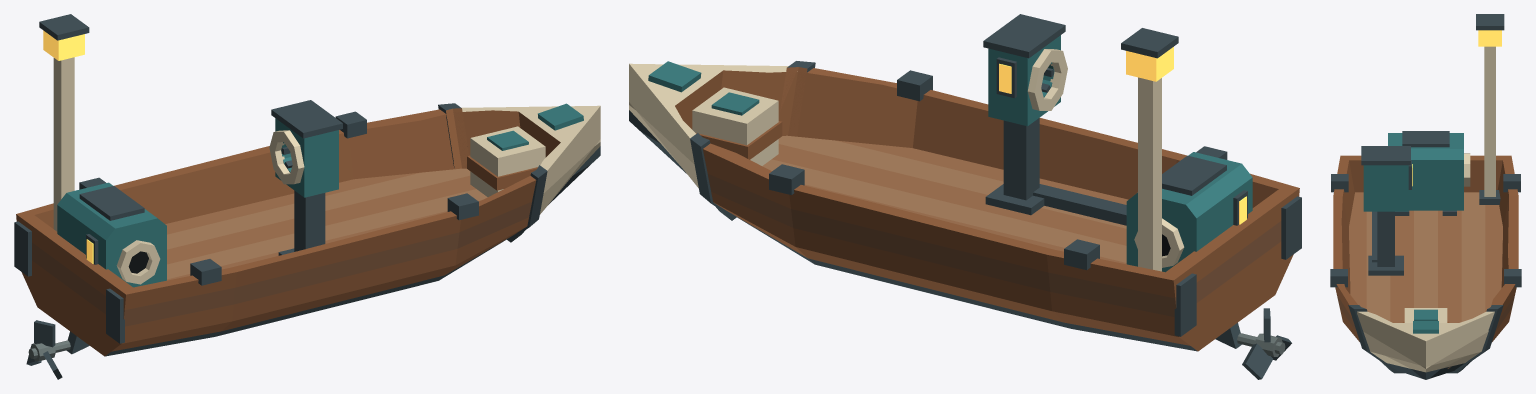
File: salvage_skiff.glb
3 renders of one model, left to right at view 1: azimuth 30°, elevation 25°; view 2: azimuth 150°, elevation 25°; view 3: azimuth 270°, elevation 25°, orthographic. The views are drawn at different scales.
Visible parts, largest first — view 1: Skiff Timber, Skiff Iron, Skiff Cream, Skiff Teal, Skiff Strake, Skiff Planks, Skiff Planks dark, Skiff Amber, Propeller Iron; view 2: Skiff Timber, Skiff Iron, Skiff Cream, Skiff Strake, Skiff Teal, Skiff Planks, Skiff Planks dark, Skiff Amber, Propeller Iron; view 3: Skiff Planks dark, Skiff Cream, Skiff Iron, Skiff Planks, Skiff Teal, Skiff Timber, Skiff Amber, Skiff Strake.
Part boxes in pixels (left/top/right/bottom): Skiff Timber: left=16, top=109, right=560, bottom=356; Skiff Iron: left=14, top=14, right=600, bottom=356; Skiff Cream: left=53, top=57, right=600, bottom=284; Skiff Teal: left=57, top=103, right=583, bottom=287; Skiff Strake: left=32, top=201, right=531, bottom=326; Skiff Planks: left=167, top=168, right=487, bottom=279; Skiff Planks dark: left=165, top=172, right=475, bottom=280; Skiff Amber: left=43, top=30, right=93, bottom=263; Propeller Iron: left=26, top=320, right=62, bottom=379; Skiff Timber: left=675, top=68, right=1299, bottom=351; Skiff Iron: left=629, top=14, right=1301, bottom=351; Skiff Cream: left=629, top=49, right=1184, bottom=271; Skiff Strake: left=707, top=174, right=1281, bottom=316; Skiff Teal: left=648, top=35, right=1252, bottom=272; Skiff Planks: left=762, top=135, right=1126, bottom=262; Skiff Planks dark: left=772, top=140, right=1128, bottom=264; Skiff Amber: left=999, top=47, right=1246, bottom=224; Propeller Iron: left=1242, top=308, right=1291, bottom=379; Skiff Planks dark: left=1349, top=192, right=1502, bottom=368; Skiff Cream: left=1357, top=46, right=1495, bottom=372; Skiff Iron: left=1330, top=14, right=1521, bottom=379; Skiff Planks: left=1366, top=192, right=1485, bottom=321; Skiff Teal: left=1363, top=133, right=1463, bottom=333; Skiff Timber: left=1333, top=155, right=1518, bottom=341; Skiff Amber: left=1412, top=30, right=1501, bottom=186; Skiff Strake: left=1337, top=295, right=1514, bottom=332.
Size of the model in its own units: 2.15 by 1.09 by 0.8059.
